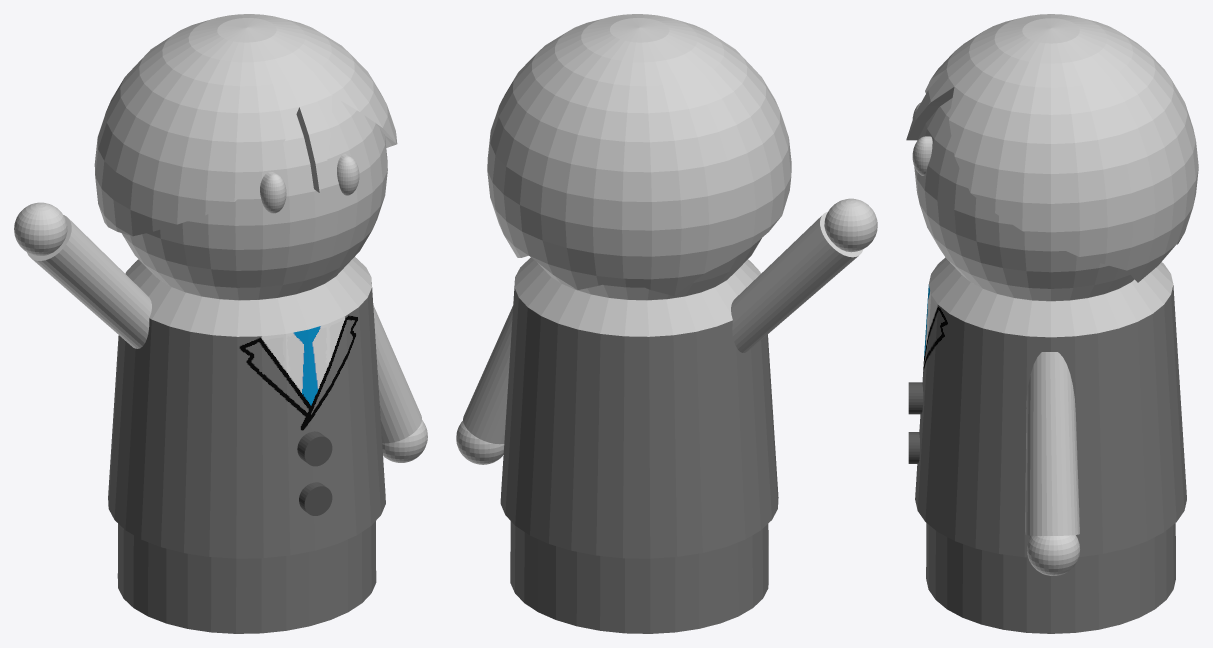
The model's file is teacher_men.fbx.
3 views of the same model, side by side, from view 1: azimuth 30°, elevation 25°; view 2: azimuth 150°, elevation 25°; view 3: azimuth 270°, elevation 25° (orthographic).
Visible parts, largest first — view 1: body, hair, face, zubonn, arm_right, arm_left, hand_right, hand_left, 円柱, 球.001, 円柱.001, 球; view 2: body, hair, zubonn, arm_right, arm_left, face, hand_right, hand_left; view 3: body, hair, zubonn, face, arm_left, hand_left, 球, 円柱.
Part boxes in pixels (x1,y1,x2,y2): body: (108, 257, 385, 558); hair: (94, 14, 397, 236); face: (122, 95, 387, 300); zubonn: (117, 521, 376, 633); arm_right: (27, 215, 151, 348); arm_left: (373, 305, 421, 443); hand_right: (14, 202, 67, 255); hand_left: (382, 420, 427, 462); 円柱: (297, 431, 332, 466); 球.001: (260, 172, 286, 213); 円柱.001: (299, 482, 332, 515); 球: (337, 153, 359, 195); body: (500, 257, 778, 558); hair: (487, 14, 791, 295); zubonn: (510, 521, 768, 633); arm_right: (731, 212, 863, 352); arm_left: (463, 305, 513, 444); face: (537, 238, 761, 300); hand_right: (824, 198, 877, 252); hand_left: (456, 421, 504, 464); body: (915, 257, 1186, 557); hair: (906, 14, 1198, 282); zubonn: (926, 523, 1175, 633); face: (914, 98, 1134, 301); arm_left: (1025, 352, 1079, 535); hand_left: (1027, 535, 1079, 575); 球: (912, 136, 932, 175); 円柱: (908, 382, 923, 414).
Size of the model in its own units: 532 by 684 by 330.
